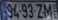3: (26, 2, 34, 19)
4: (13, 3, 19, 19)
9: (20, 2, 28, 18), (5, 3, 13, 18)
M: (42, 3, 53, 18)
Z: (35, 3, 44, 18)
